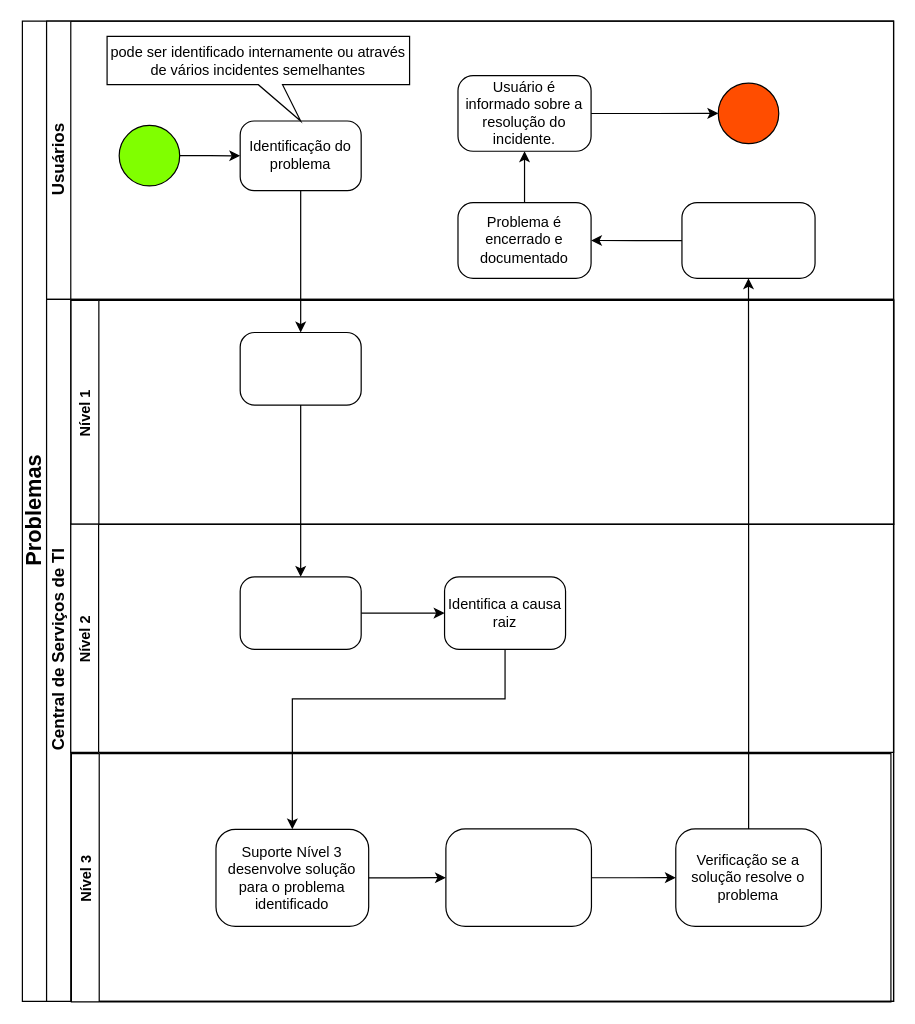
Some shapes in this 915 by 1024 pixel diagram are drawn without their labels. Each missing label, with the box of its shape:
Fim: (717, 82, 779, 144)
Início: (118, 124, 180, 186)
Solução é implementada no ambiente de produção: (445, 828, 591, 926)
Suporte Nível 1 registra e categoriza o problema: (239, 331, 361, 405)
Suporte Nível 2 analisa o problema: (239, 576, 361, 649)
Validação com os usuários: (681, 201, 815, 278)
